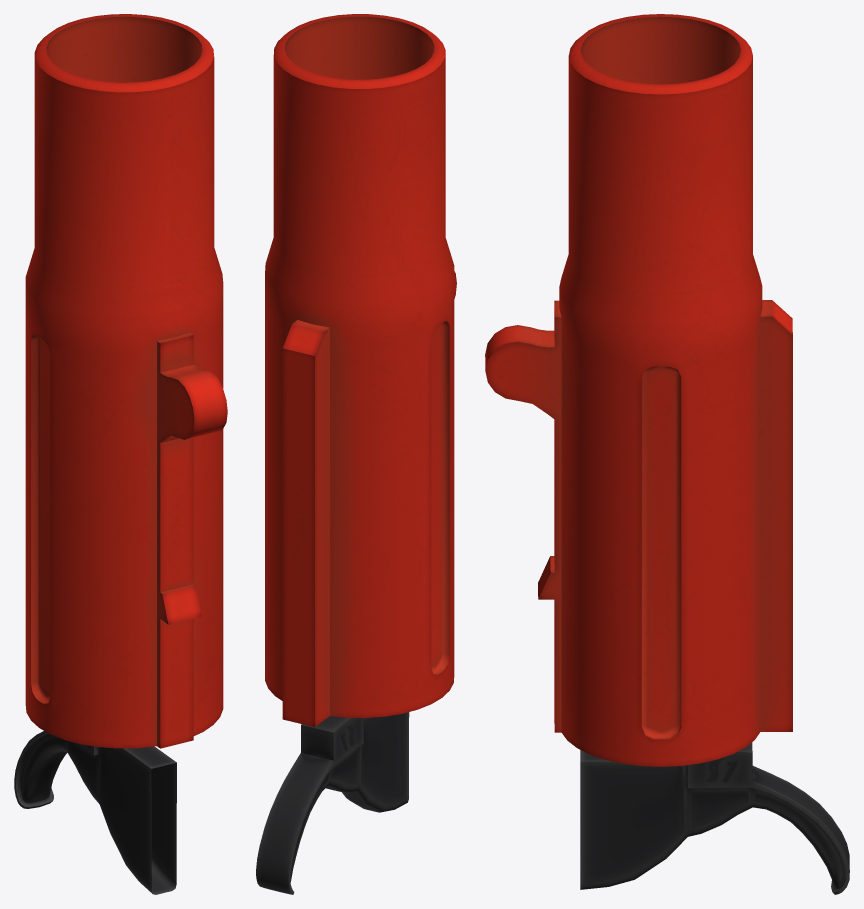
Rendered from FLARE_GUNBARREL.dae.
The picture shows the model from 3 angles, left to right: view 1: azimuth 30°, elevation 25°; view 2: azimuth 150°, elevation 25°; view 3: azimuth 270°, elevation 25°; orthographic projection. The views are drawn at different scales.
Parts seen in each view (by area): view 1: FlareGunShort_Barrel_Circle.000, FlareGunShort_Hammer_Circle.000; view 2: FlareGunShort_Barrel_Circle.000, FlareGunShort_Hammer_Circle.000; view 3: FlareGunShort_Barrel_Circle.000, FlareGunShort_Hammer_Circle.000.
Boxes of the visible parts, x1,y1,x2,y2 form: FlareGunShort_Barrel_Circle.000: (25, 14, 227, 748); FlareGunShort_Hammer_Circle.000: (14, 731, 176, 894); FlareGunShort_Barrel_Circle.000: (265, 14, 456, 726); FlareGunShort_Hammer_Circle.000: (256, 712, 409, 894); FlareGunShort_Barrel_Circle.000: (485, 14, 792, 766); FlareGunShort_Hammer_Circle.000: (580, 742, 849, 894).
Size of the model in its own units: 0.0472 by 0.0848 by 0.2153.
Materials: 1 (1 with a texture image).
